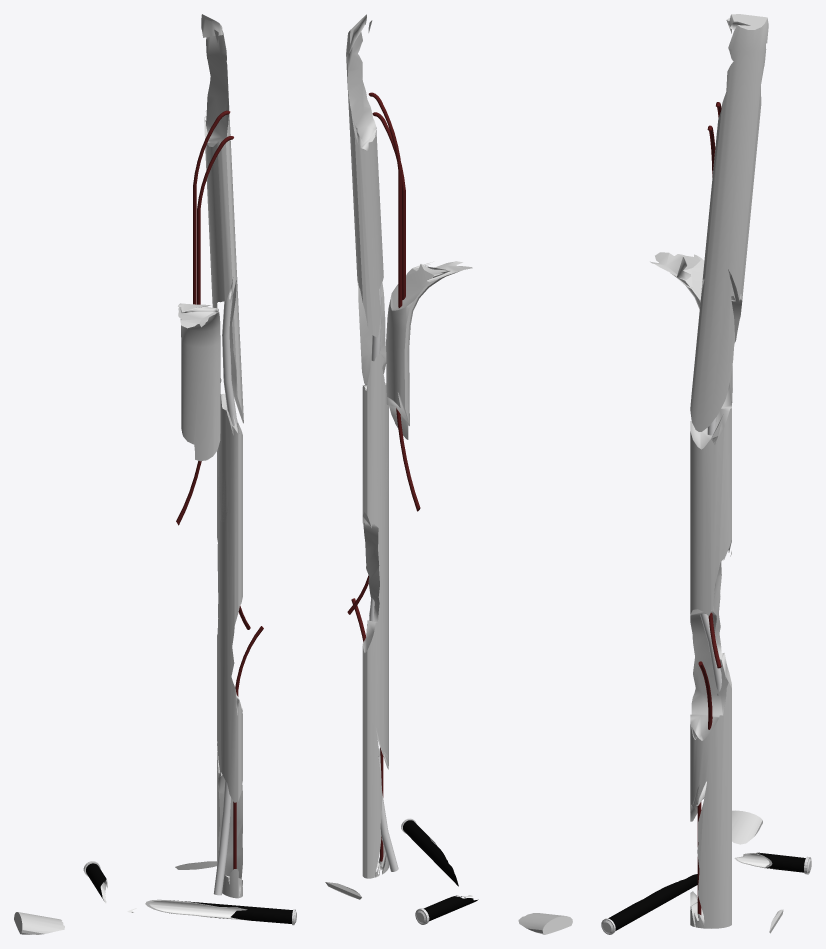
The model's file is lamp_3.fbx.
The picture shows the model from 3 angles, left to right: view 1: azimuth 30°, elevation 25°; view 2: azimuth 150°, elevation 25°; view 3: azimuth 270°, elevation 25°; orthographic projection. The views are drawn at different scales.
Parts seen in each view (by area): view 1: Cylinder035, Object024, Object021, Object011, Cylinder047, Cylinder049, Object022, Cylinder043, Cylinder042; view 2: Cylinder035, Object024, Object021, Cylinder043, Object011, Object022, Cylinder042, Object017, Cylinder049; view 3: Cylinder035, Object024, Object021, Object011, Object017, Object022, Cylinder048.
Boxes of the visible parts, x1,y1,x2,y2 form: Cylinder035: [217, 378, 242, 898]; Object024: [201, 14, 243, 423]; Object021: [178, 303, 220, 461]; Object011: [145, 899, 292, 923]; Cylinder047: [222, 291, 237, 425]; Cylinder049: [213, 781, 230, 895]; Object022: [14, 912, 64, 934]; Cylinder043: [193, 110, 230, 304]; Cylinder042: [197, 136, 233, 304]; Cylinder035: [362, 353, 388, 878]; Object024: [346, 14, 386, 384]; Object021: [386, 261, 472, 439]; Cylinder043: [368, 92, 402, 307]; Object011: [403, 820, 458, 886]; Object022: [518, 913, 572, 934]; Cylinder042: [372, 112, 405, 299]; Object017: [423, 895, 478, 921]; Cylinder049: [378, 748, 398, 871]; Cylinder035: [690, 383, 731, 928]; Object024: [690, 14, 768, 431]; Object021: [650, 252, 732, 402]; Object011: [608, 874, 697, 930]; Object017: [734, 852, 805, 872]; Object022: [732, 810, 762, 844]; Cylinder048: [700, 613, 721, 695].
Size of the model in its own units: 58.89 by 210 by 43.94.
